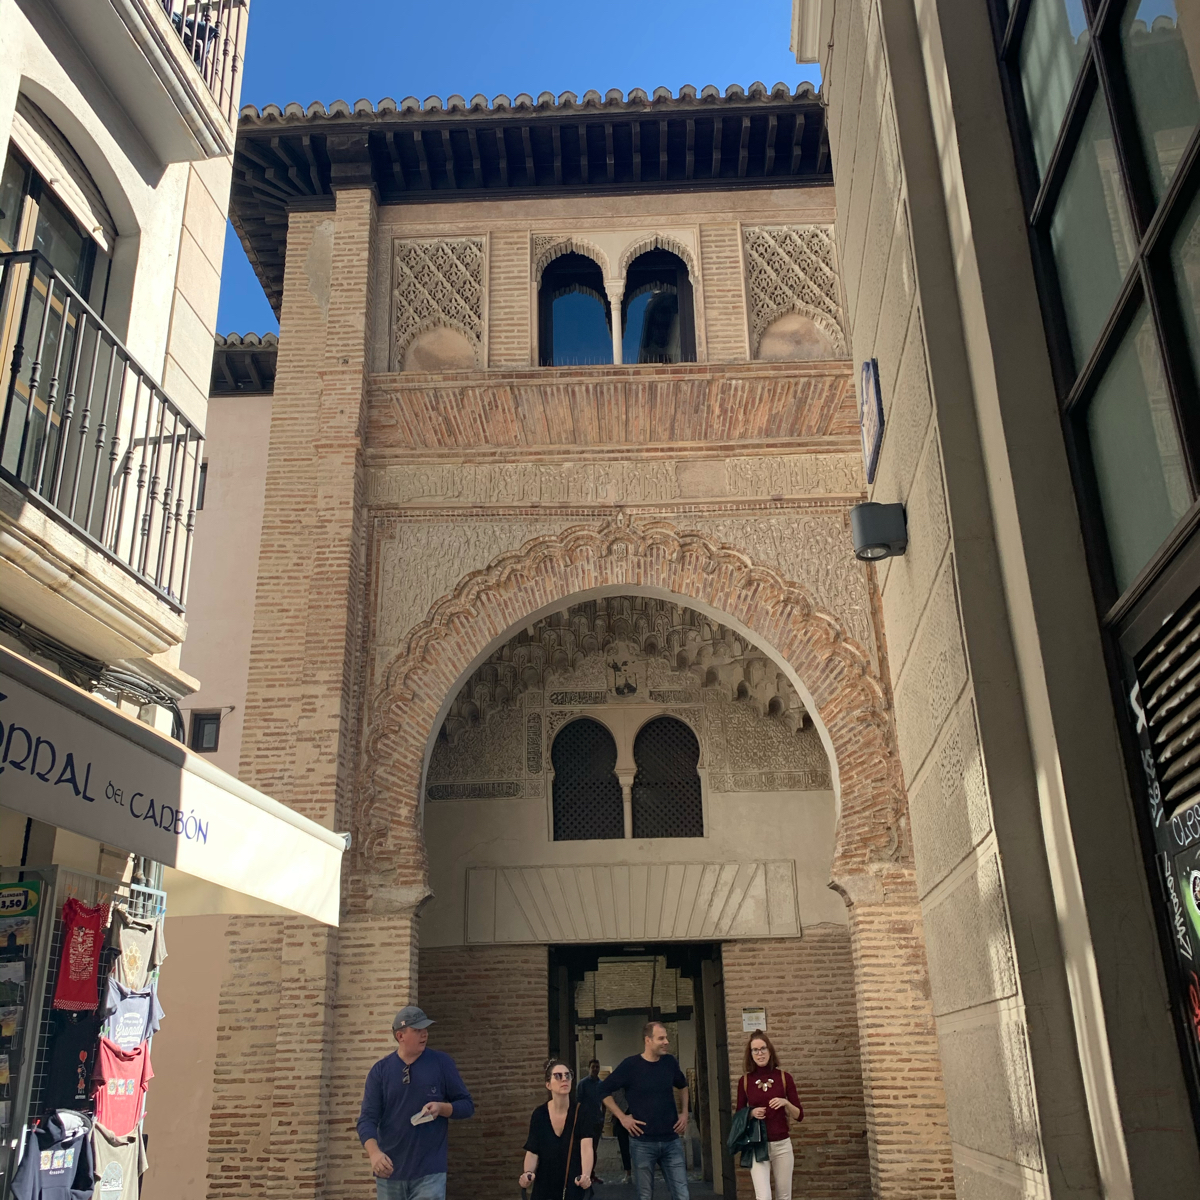arco-herradura: (378, 571, 866, 919), (543, 707, 626, 795), (627, 712, 702, 781)
dintel-adovelado: (391, 373, 852, 457), (491, 859, 784, 945)
